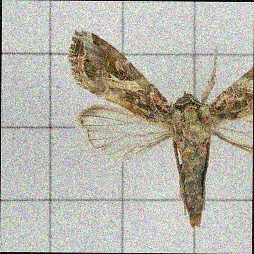Spodoptera litura: (66, 31, 253, 227)
